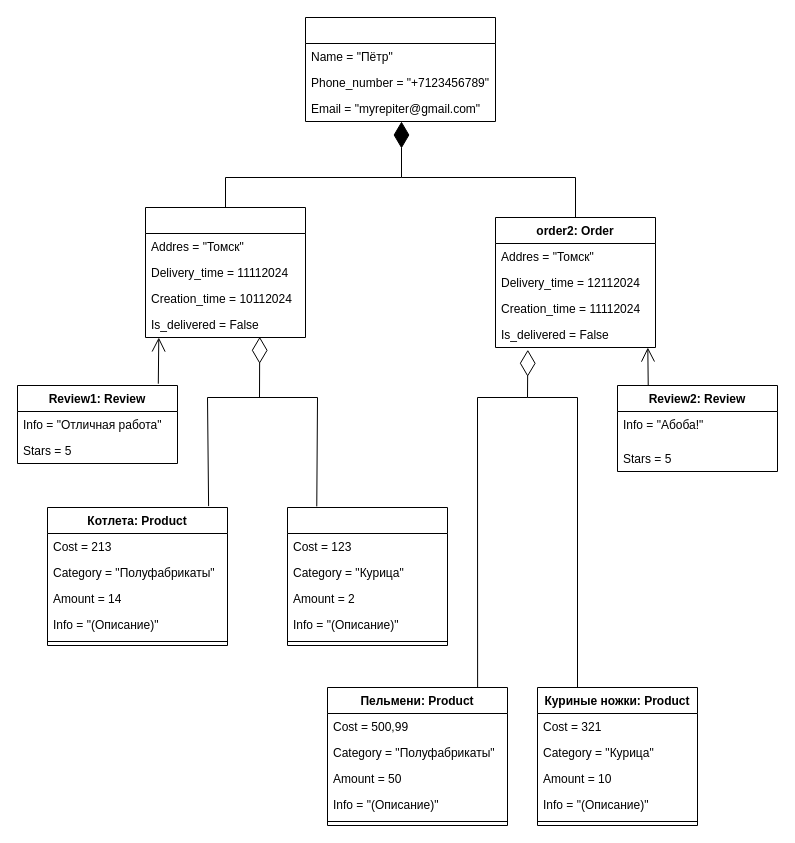
Image size: 795x843. Some labels were removed from this diagram. The shapes that lost their labels are listed below. From the top down, each one's box as (x1, y1, x2, y2) in pixels, then its label:
(304, 16, 496, 122): Petr: Client
(144, 206, 306, 338): order1: Order
(286, 506, 448, 646): Куриная грудка: Product
